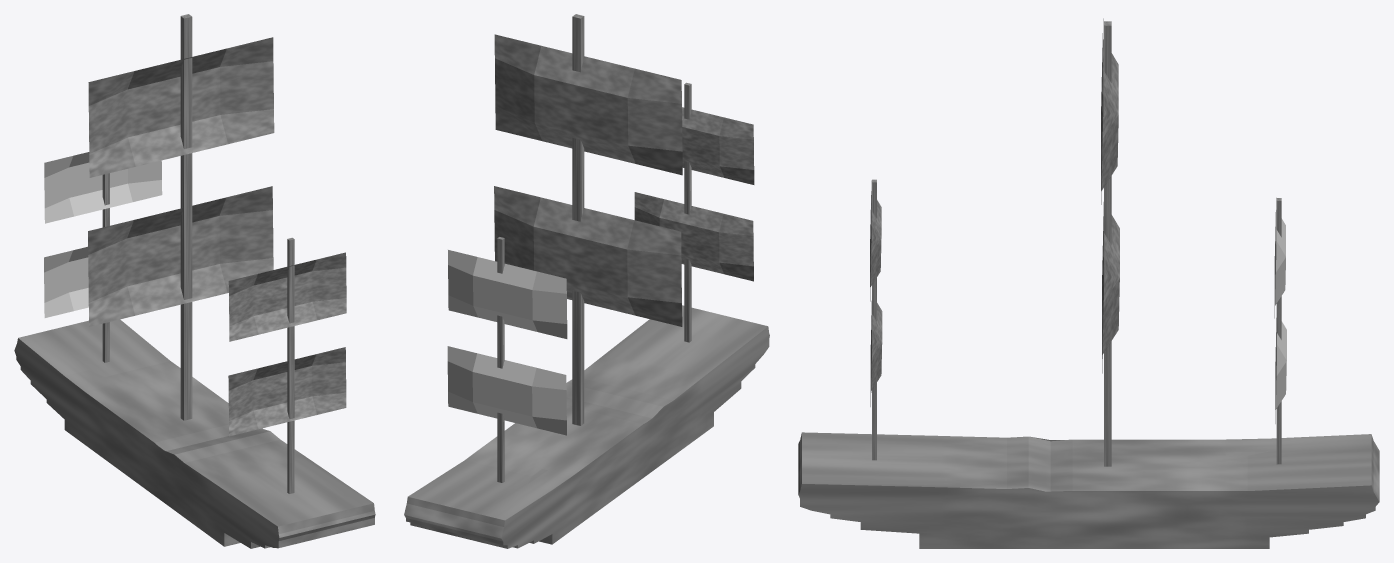
Rendered from barque.obj.
3 renders of one model, left to right at view 1: azimuth 30°, elevation 25°; view 2: azimuth 150°, elevation 25°; view 3: azimuth 270°, elevation 25°, orthographic. The views are drawn at different scales.
Parts seen in each view (by area): view 1: Cube_Cube.010, Plane.001_Plane.002, Plane, Plane.005_Plane.006, Plane.004_Plane.005, Plane.002_Plane.003, Cube.001_Cube.004, Plane.003_Plane.004, Cube.003_Cube.009, Cube.002_Cube.008; view 2: Cube_Cube.010, Plane.001_Plane.002, Plane, Plane.003_Plane.004, Plane.002_Plane.003, Plane.004_Plane.005, Plane.005_Plane.006, Cube.001_Cube.004, Cube.003_Cube.009, Cube.002_Cube.008; view 3: Cube_Cube.010, Plane.001_Plane.002, Plane, Cube.001_Cube.004, Plane.004_Plane.005, Plane.002_Plane.003, Plane.003_Plane.004, Plane.005_Plane.006, Cube.002_Cube.008, Cube.003_Cube.009.
Boxes of the visible parts, bbox=[...] form: Cube_Cube.010: bbox=[14, 319, 375, 548]; Plane.001_Plane.002: bbox=[88, 37, 274, 177]; Plane: bbox=[88, 186, 273, 326]; Plane.005_Plane.006: bbox=[228, 252, 346, 341]; Plane.004_Plane.005: bbox=[228, 347, 346, 436]; Plane.002_Plane.003: bbox=[44, 152, 162, 223]; Cube.001_Cube.004: bbox=[180, 14, 192, 420]; Plane.003_Plane.004: bbox=[44, 246, 88, 317]; Cube.003_Cube.009: bbox=[287, 237, 294, 493]; Cube.002_Cube.008: bbox=[102, 173, 109, 362]; Cube_Cube.010: bbox=[404, 305, 769, 548]; Plane.001_Plane.002: bbox=[494, 34, 682, 175]; Plane: bbox=[494, 186, 682, 326]; Plane.003_Plane.004: bbox=[447, 346, 566, 435]; Plane.002_Plane.003: bbox=[448, 250, 567, 338]; Plane.004_Plane.005: bbox=[634, 192, 753, 281]; Plane.005_Plane.006: bbox=[682, 107, 754, 184]; Cube.001_Cube.004: bbox=[572, 14, 584, 425]; Cube.003_Cube.009: bbox=[684, 82, 691, 342]; Cube.002_Cube.008: bbox=[497, 237, 504, 482]; Cube_Cube.010: bbox=[798, 432, 1379, 548]; Plane.001_Plane.002: bbox=[1101, 18, 1118, 204]; Plane: bbox=[1102, 202, 1119, 373]; Cube.001_Cube.004: bbox=[1104, 21, 1111, 466]; Plane.004_Plane.005: bbox=[870, 301, 882, 406]; Plane.002_Plane.003: bbox=[1274, 197, 1285, 318]; Plane.003_Plane.004: bbox=[1275, 318, 1286, 423]; Plane.005_Plane.006: bbox=[870, 180, 881, 301]; Cube.002_Cube.008: bbox=[1276, 198, 1281, 464]; Cube.003_Cube.009: bbox=[872, 179, 876, 460].
Bounding box in the file's own units: 3.27 × 7.72 × 8.14.
